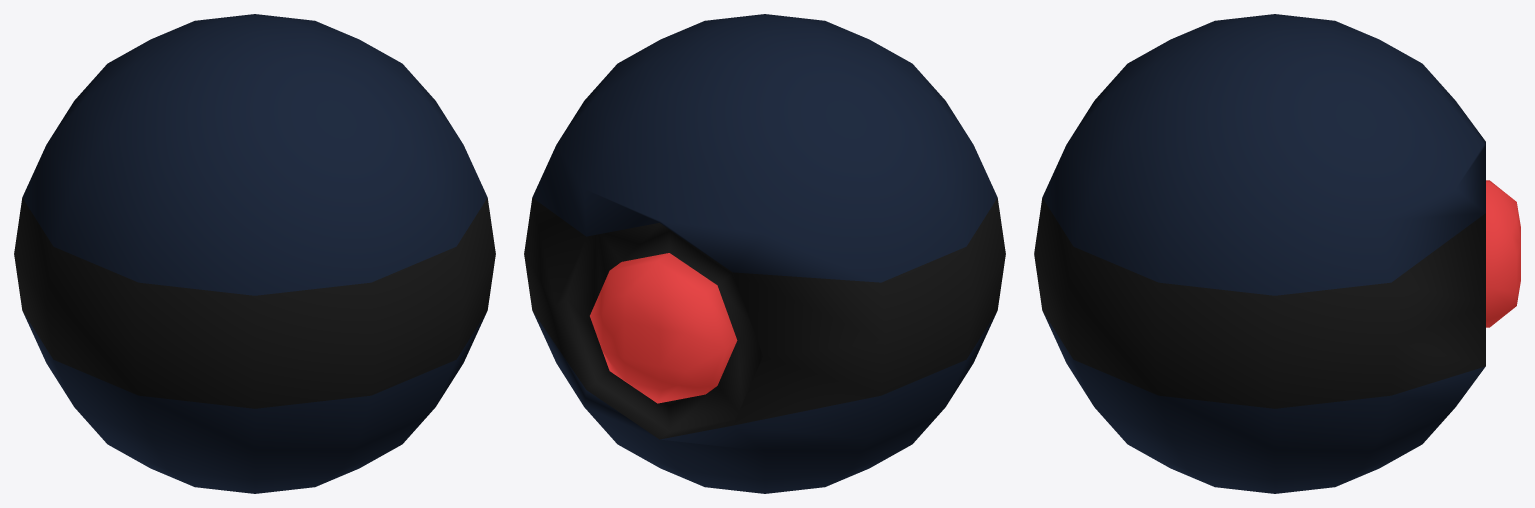
The model's file is Bomb.fbx.
3 renders of one model, left to right at view 1: azimuth 30°, elevation 25°; view 2: azimuth 150°, elevation 25°; view 3: azimuth 270°, elevation 25°, orthographic.
Parts seen in each view (by area): view 1: Sphere; view 2: Sphere; view 3: Sphere.
Part boxes in pixels (<box>): Sphere: <box>14,14,495,493</box>; Sphere: <box>524,14,1005,493</box>; Sphere: <box>1034,14,1520,493</box>.
Size of the model in its own units: 200 by 200 by 202.
